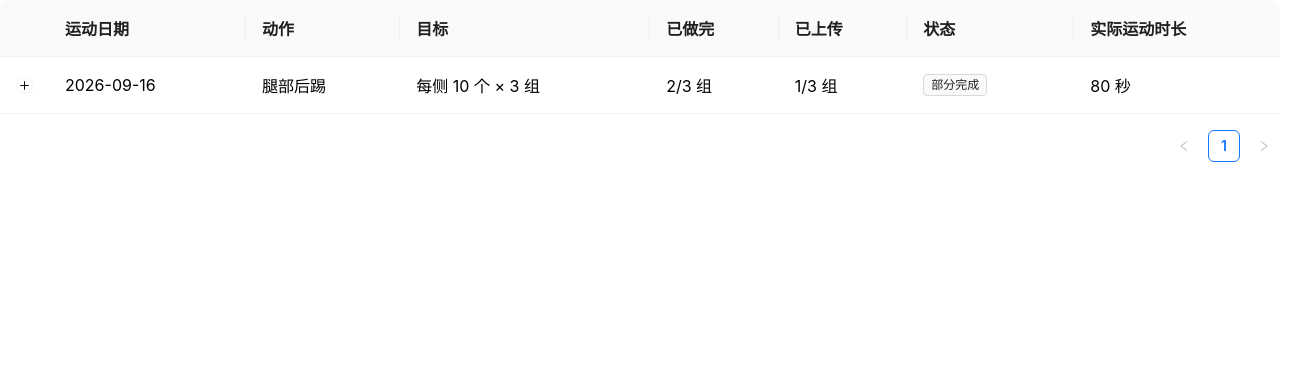
shows one motion with separate completion and upload progress and per-side group targets
Expected: the text "每侧 10 个 × 3 组" is shown, [400,57,650,114]
Expected: the text "部分完成" is shown, [923,74,987,96]
Click the button named "Expand row" at (24, 85), box [16,77,32,93]
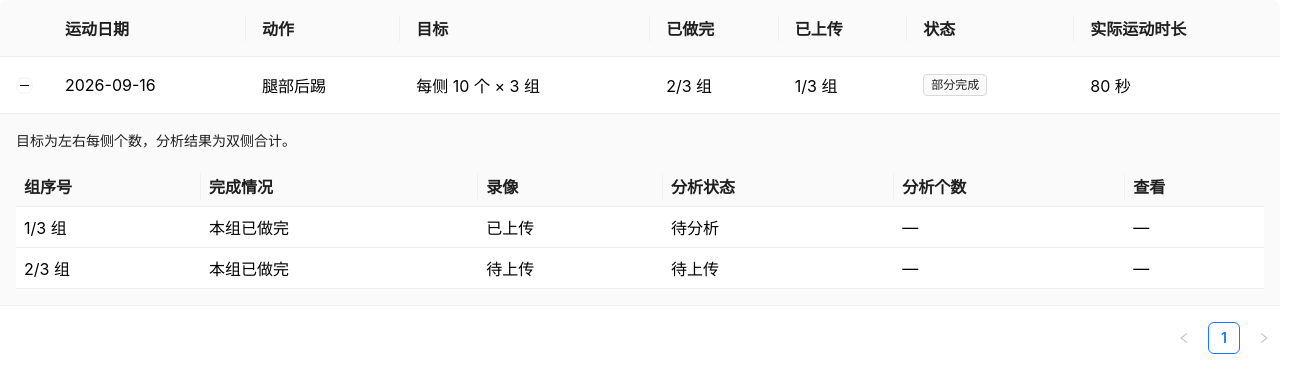
Result: the 1st text "待上传" is shown at [478,248,663,289]
Result: the text "待分析" is shown at [663,207,894,248]
Result: the text "目标为左右每侧个数，分析结果为双侧合计。" is shown at [16,132,296,149]
